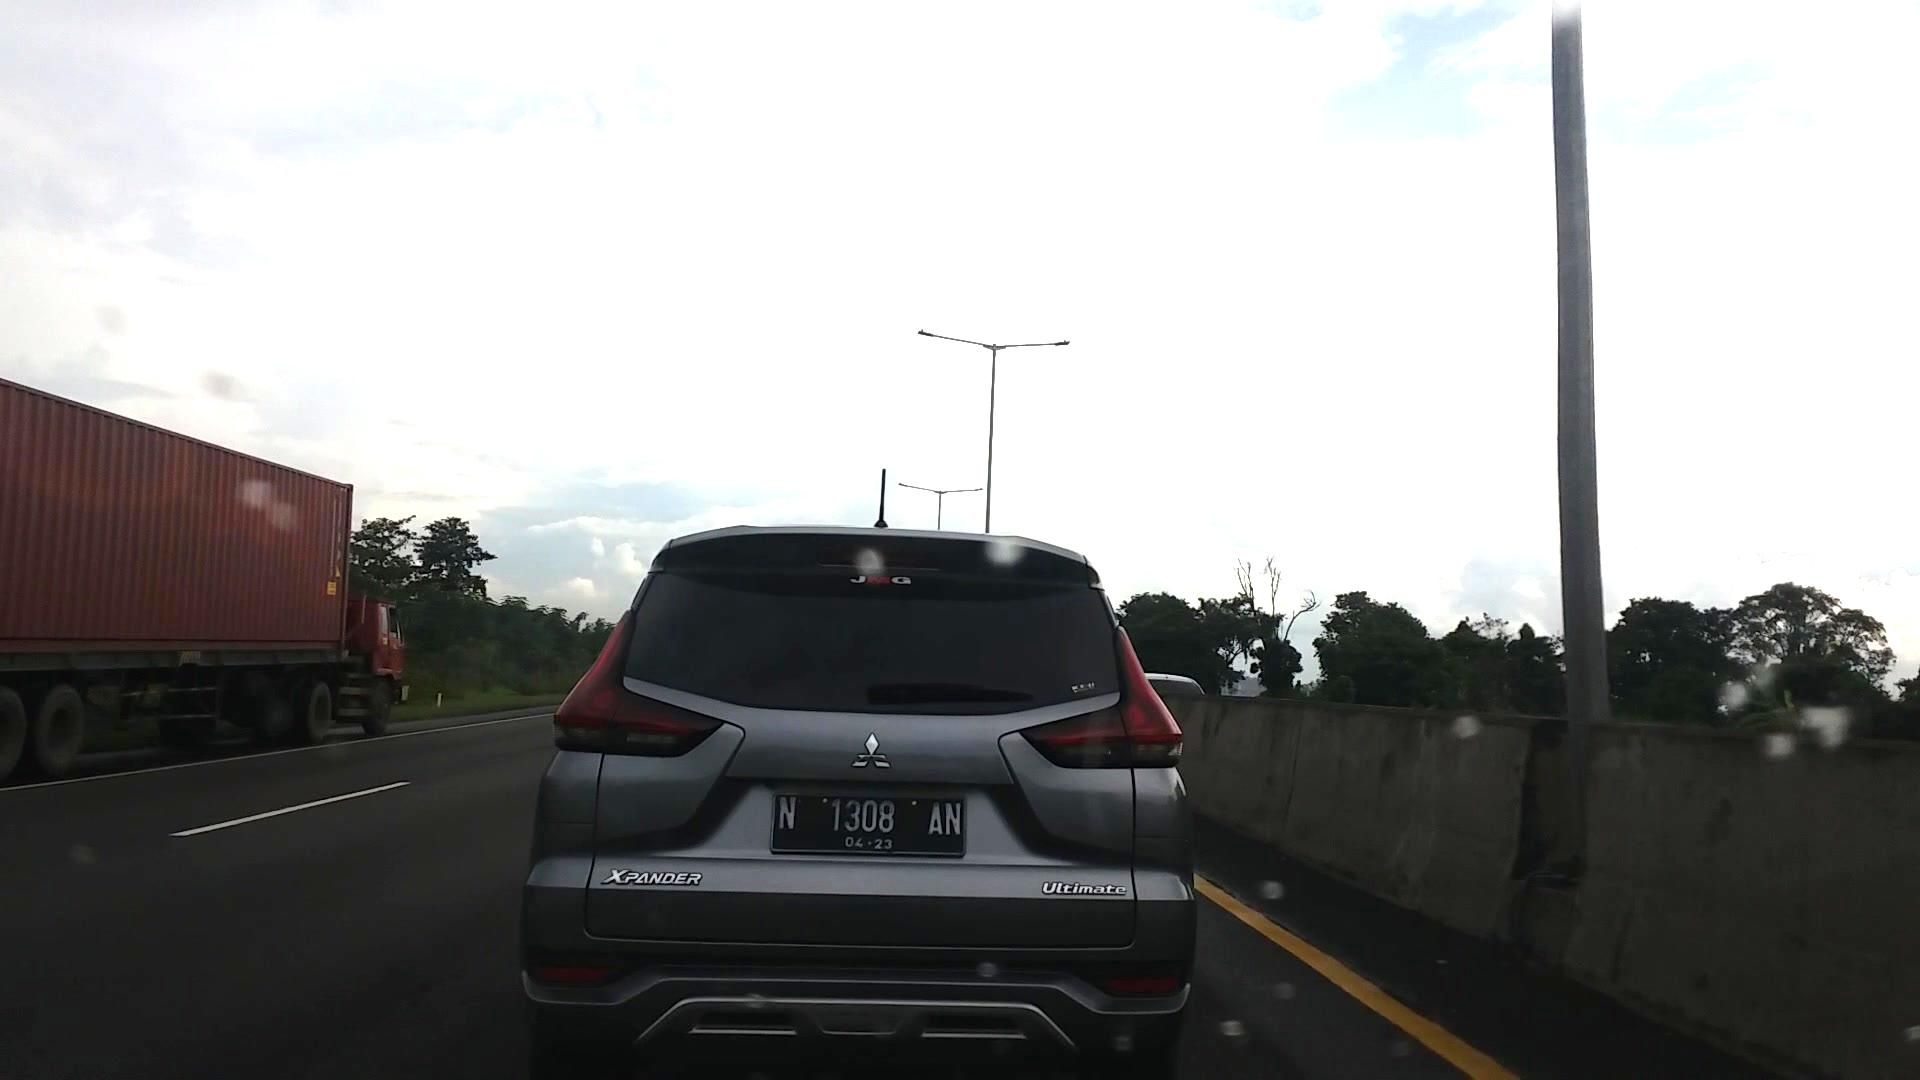plate_positive: (770, 793, 967, 857)
